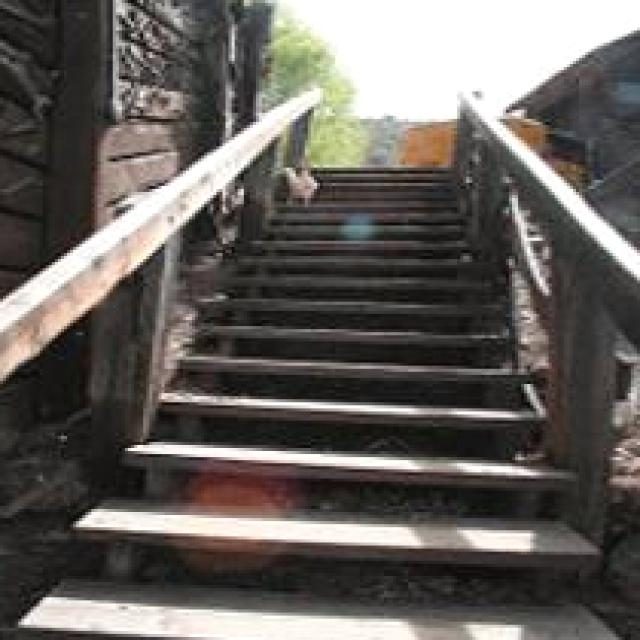upstair: (151, 239, 547, 559)
